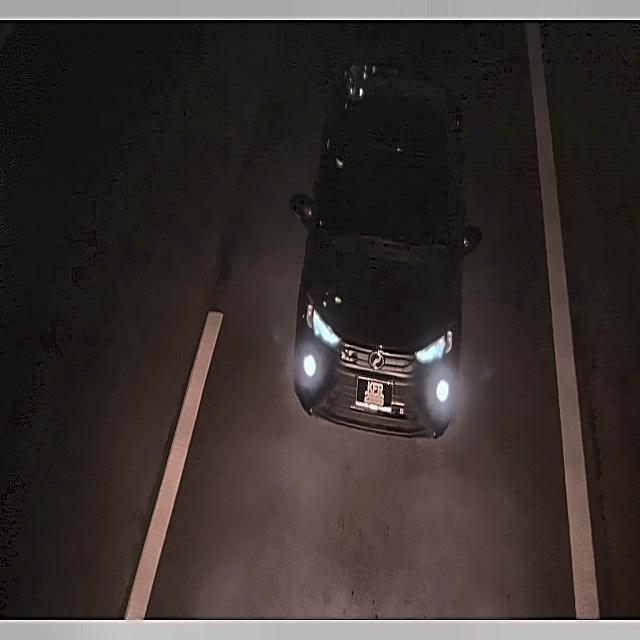car: (354, 371, 396, 416)
